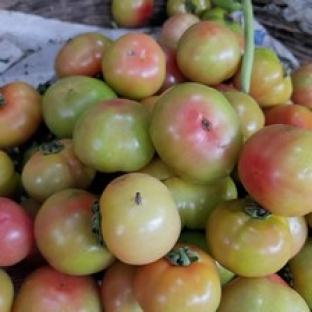Tomato: (150, 83, 242, 183), (99, 173, 181, 264), (34, 189, 114, 275), (207, 198, 292, 277), (239, 124, 311, 215), (73, 98, 154, 172), (134, 243, 221, 311), (21, 138, 96, 201), (42, 76, 116, 137), (102, 33, 165, 100), (12, 265, 103, 311), (177, 21, 240, 84), (163, 177, 236, 229), (218, 276, 309, 311), (0, 81, 43, 149), (248, 46, 292, 107), (55, 33, 111, 77), (0, 197, 34, 267), (101, 261, 143, 311), (201, 6, 245, 52), (223, 90, 264, 139), (287, 237, 311, 307), (158, 13, 200, 50), (156, 46, 186, 94), (264, 104, 311, 129), (137, 155, 175, 181), (290, 63, 311, 108), (287, 216, 309, 257), (0, 150, 19, 197), (179, 229, 210, 254), (0, 268, 13, 311), (140, 95, 158, 114)
